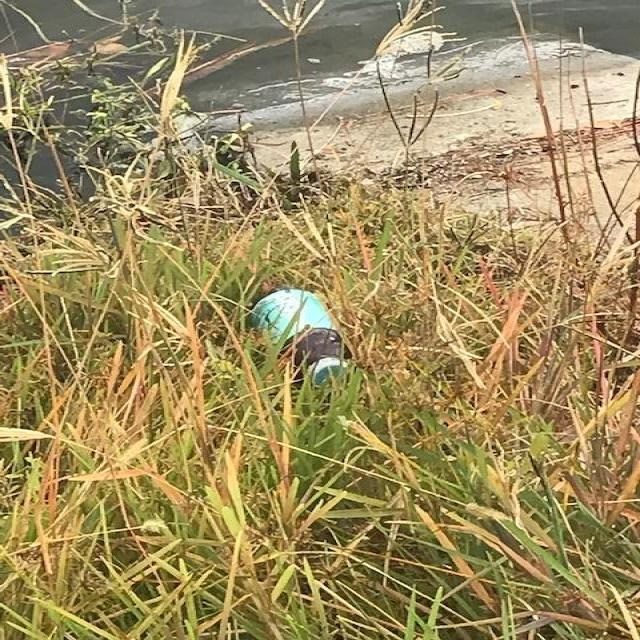litter: (381, 216, 516, 293)
